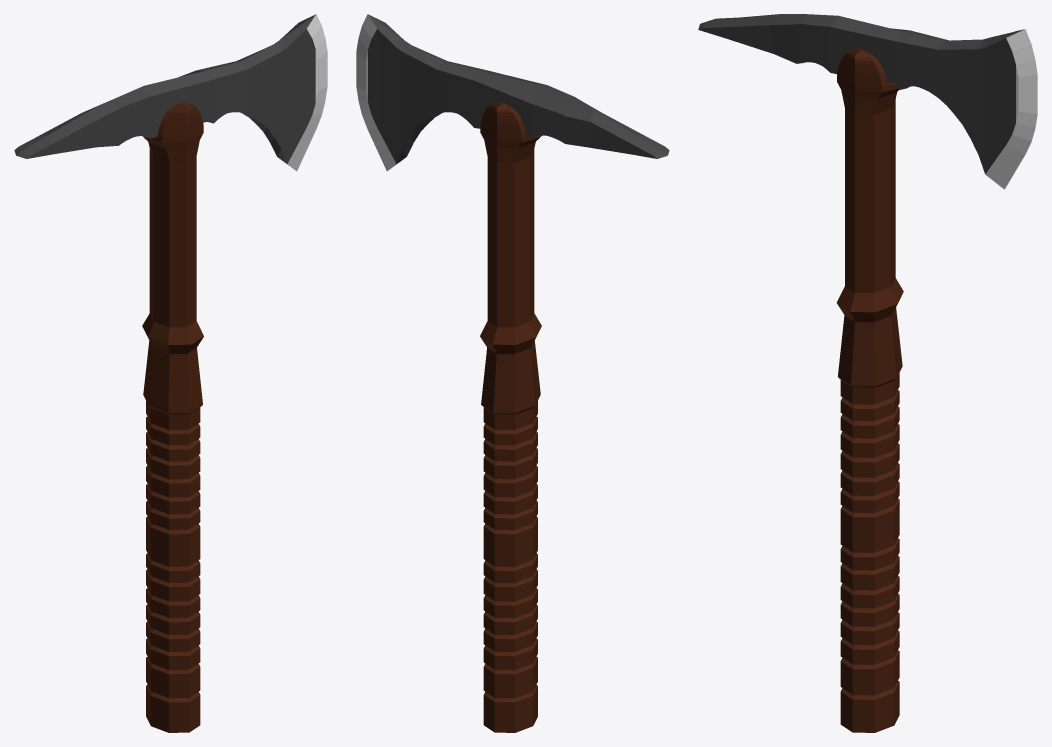
The model's file is Tomahawk.fbx.
3 renders of one model, left to right at view 1: azimuth 30°, elevation 25°; view 2: azimuth 150°, elevation 25°; view 3: azimuth 330°, elevation 25°, orthographic. The views are drawn at different scales.
Parts seen in each view (by area): view 1: Pickaxe; view 2: Pickaxe; view 3: Pickaxe.
Boxes of the visible parts, x1,y1,x2,y2 form: Pickaxe: (14,14,327,732); Pickaxe: (356,14,669,732); Pickaxe: (698,14,1037,732).
Size of the model in its own units: 43.1 by 8.86 by 88.83.
